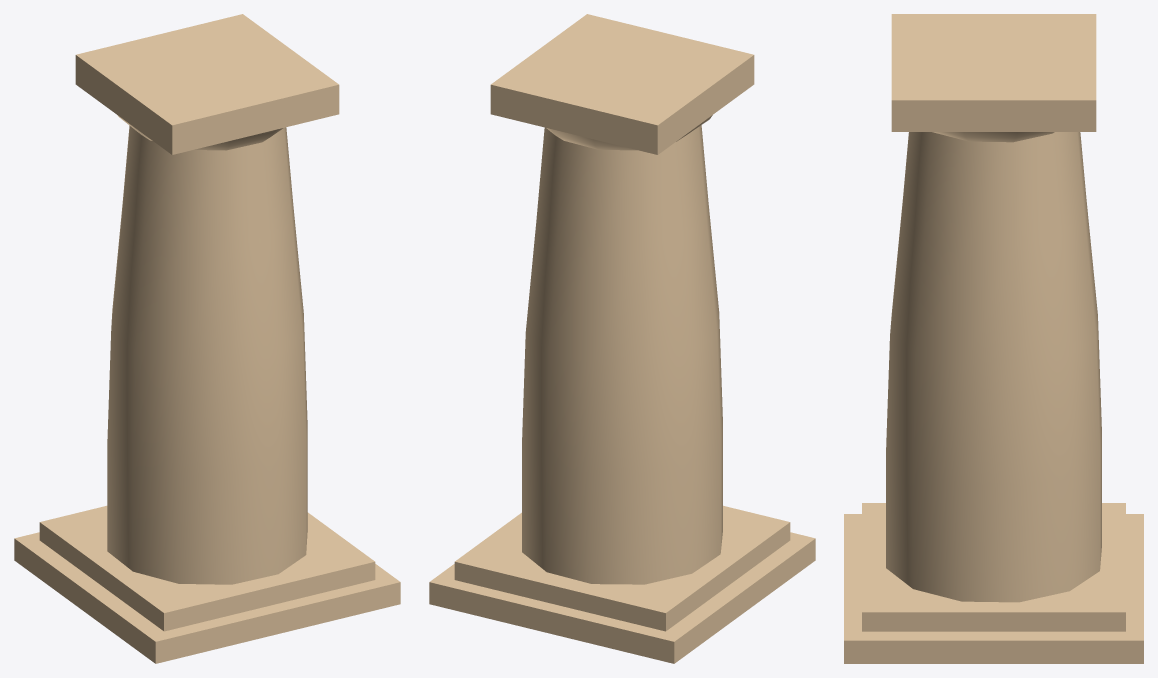
File: column.fbx
The picture shows the model from 3 angles, left to right: view 1: azimuth 30°, elevation 25°; view 2: azimuth 150°, elevation 25°; view 3: azimuth 270°, elevation 25°; orthographic projection. The views are drawn at different scales.
Parts seen in each view (by area): view 1: Column; view 2: Column; view 3: Column.
Boxes of the visible parts, x1,y1,x2,y2 form: Column: (14, 14, 400, 663); Column: (429, 14, 815, 663); Column: (844, 14, 1143, 663).
Size of the model in its own units: 200 by 400 by 200.
